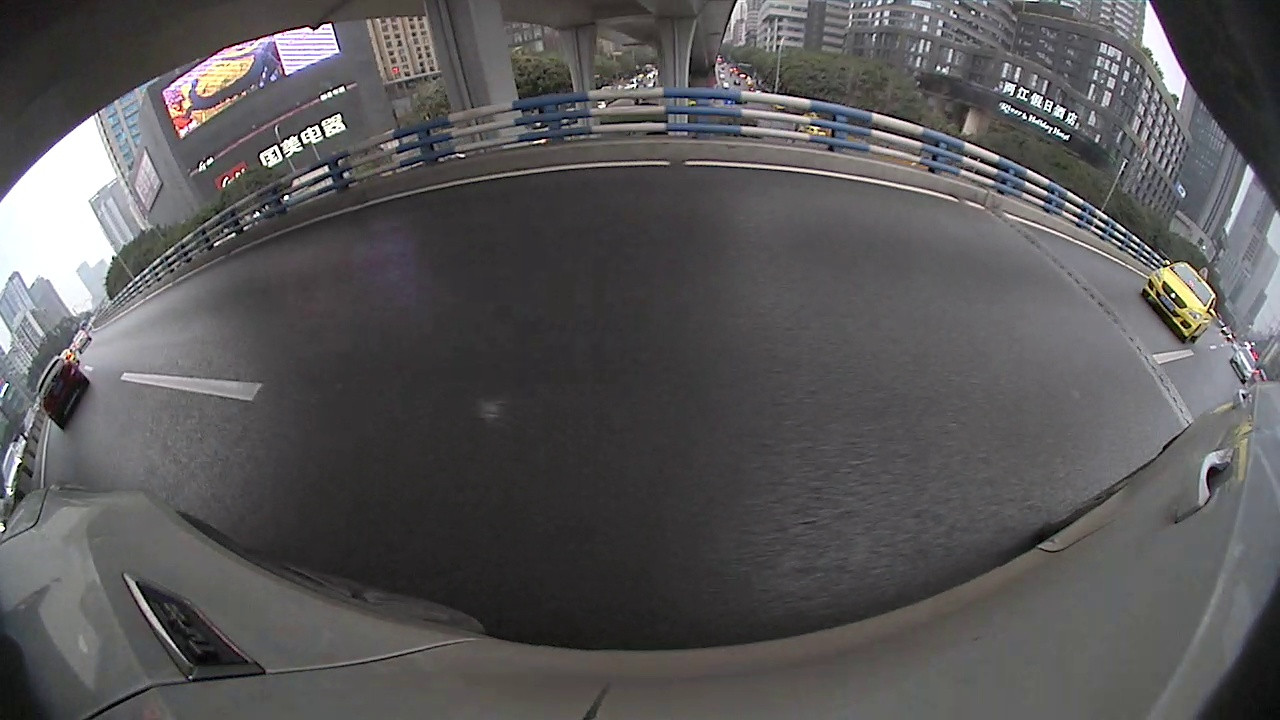car: (1140, 260, 1219, 346), (34, 355, 90, 429)
